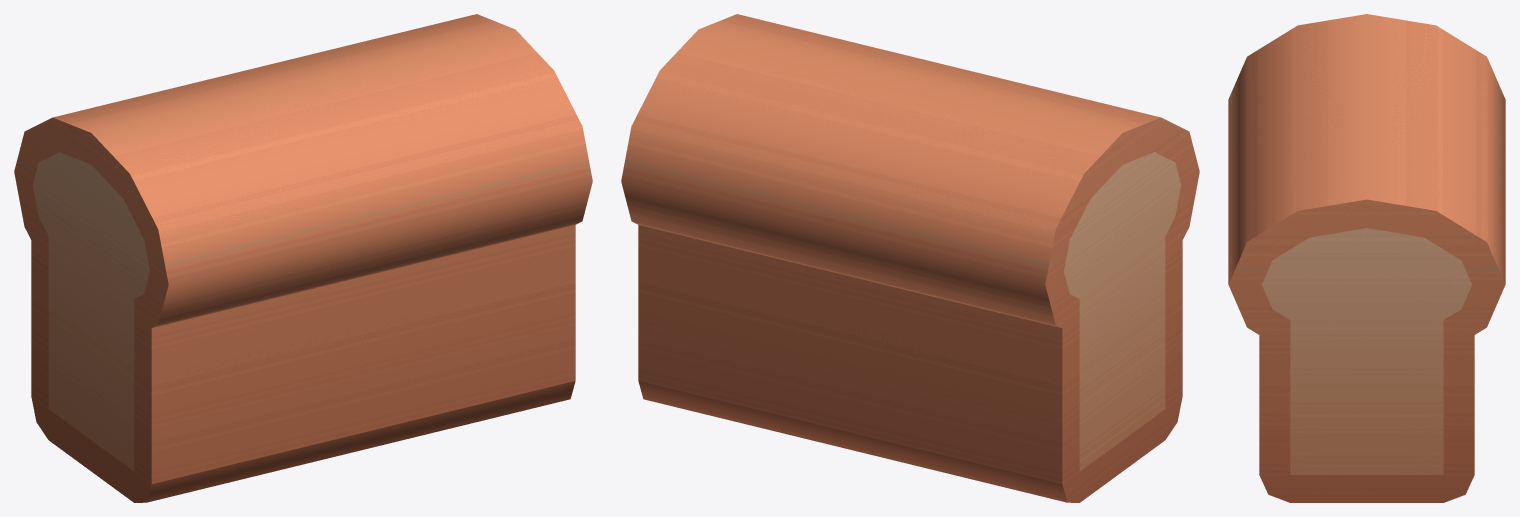
The model's file is loaf.glb.
The picture shows the model from 3 angles, left to right: view 1: azimuth 30°, elevation 25°; view 2: azimuth 150°, elevation 25°; view 3: azimuth 270°, elevation 25°; orthographic projection. The views are drawn at different scales.
Visible parts, largest first — view 1: loaf; view 2: loaf; view 3: loaf.
Part boxes in pixels (<box>): loaf: <box>14,14,592,502</box>; loaf: <box>621,14,1199,502</box>; loaf: <box>1228,14,1505,502</box>.
Size of the model in its own units: 0.5797 by 0.4423 by 0.3659.
Materials: 1 (1 with a texture image).
